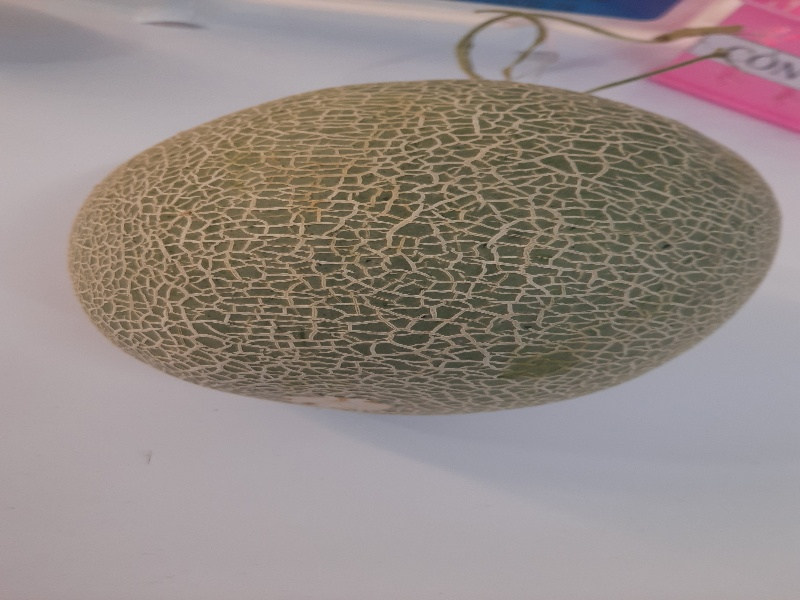fruit: (59, 66, 791, 429)
